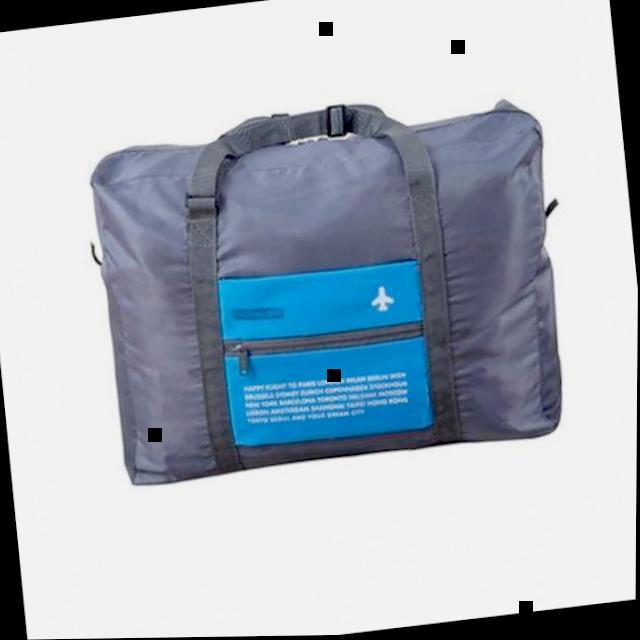luggage: (74, 78, 581, 500)
